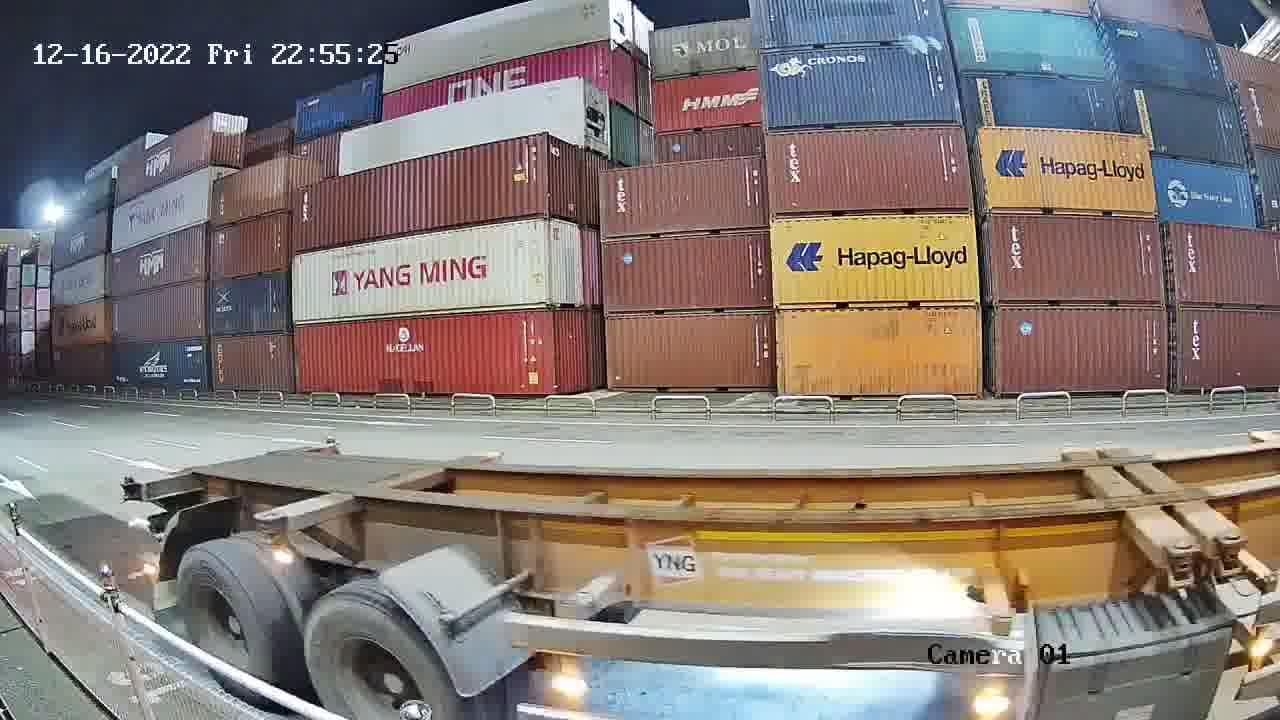Chassis: (137, 440, 336, 501)
Cone: (118, 471, 142, 499), (322, 434, 339, 453)
Tire: (300, 594, 456, 719), (175, 546, 281, 680)
